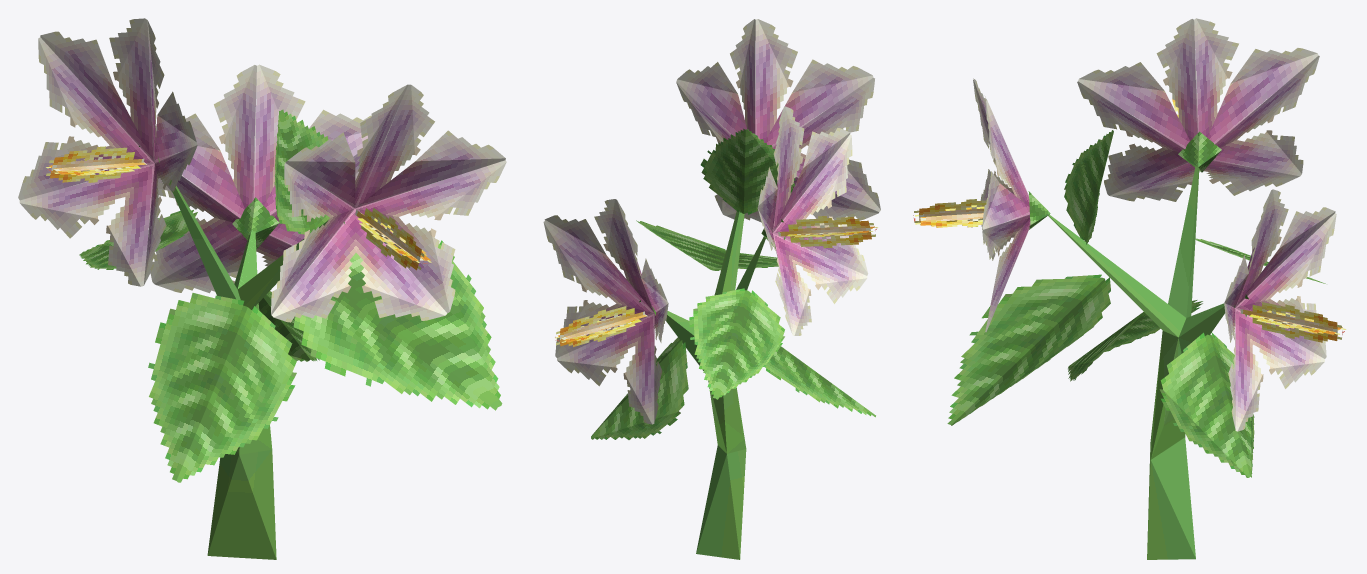
Rendered from flowerpurple.dae.
3 views of the same model, side by side, from view 1: azimuth 30°, elevation 25°; view 2: azimuth 150°, elevation 25°; view 3: azimuth 270°, elevation 25° (orthographic). The views are drawn at different scales.
Visible parts, largest first — view 1: m0; view 2: m0; view 3: m0.
Part boxes in pixels (box(x1,y1,x2,y2)): m0: box(18, 18, 506, 559); m0: box(543, 19, 880, 559); m0: box(913, 18, 1346, 559).
Bounding box in the file's own units: 53.87 × 75.64 × 60.25.
Materials: 1 (1 with a texture image).
